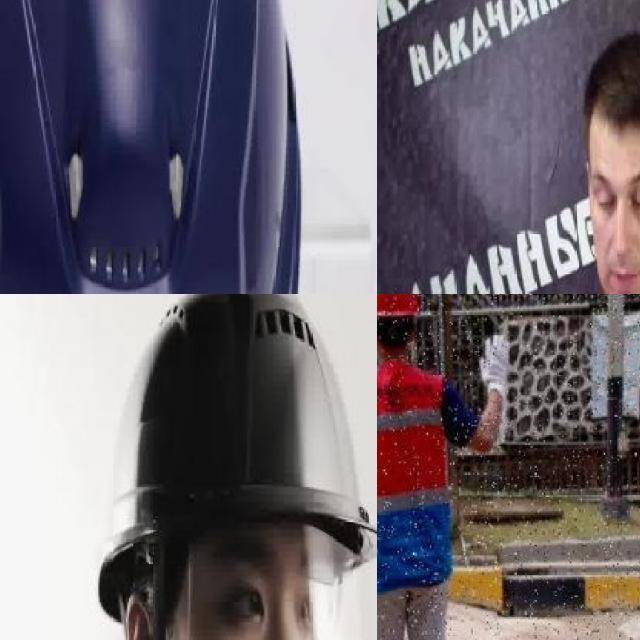apron: (476, 332, 514, 400)
